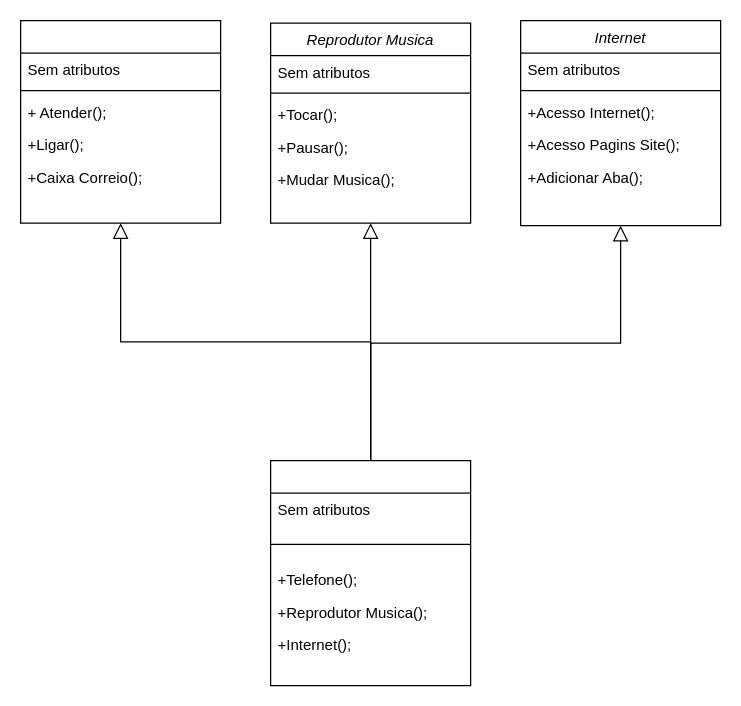
The diagram is 741 pixels wide and 706 high, and some of its shapes have lost their labels. Each missing label, with the box of its shape:
SmartPhone: (269, 459, 471, 686)
Telefone: (19, 19, 221, 223)
